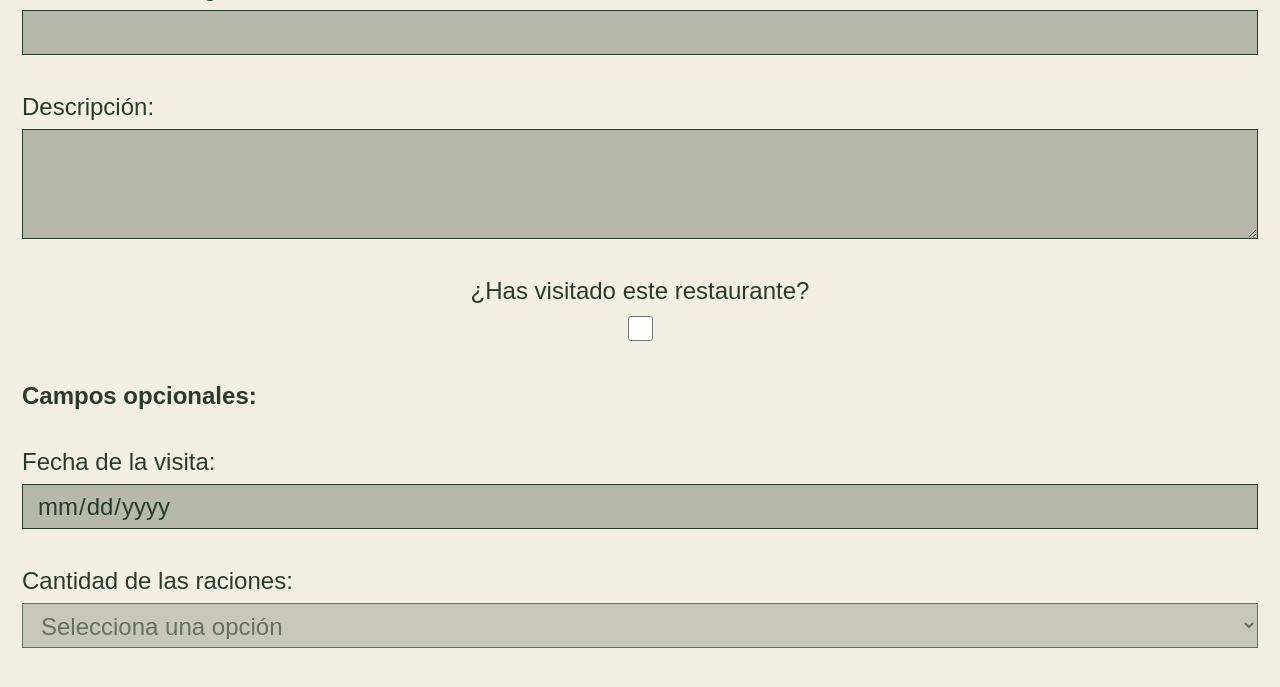
it: Given the RestaurantForm component › When it receives an action to add a new restaurant › And the user selects the checkbox › And the user types 6 as the rating in the rating input › Then it should show 5 as the restaurant rating
This screenshot has width=1280, height=687.
(page scrolled)
Click the checkbox labelled "¿Has visitado este restaurante?".
click(640, 328)  # box top-left (628, 316), bottom-right (653, 341)
(page scrolled)
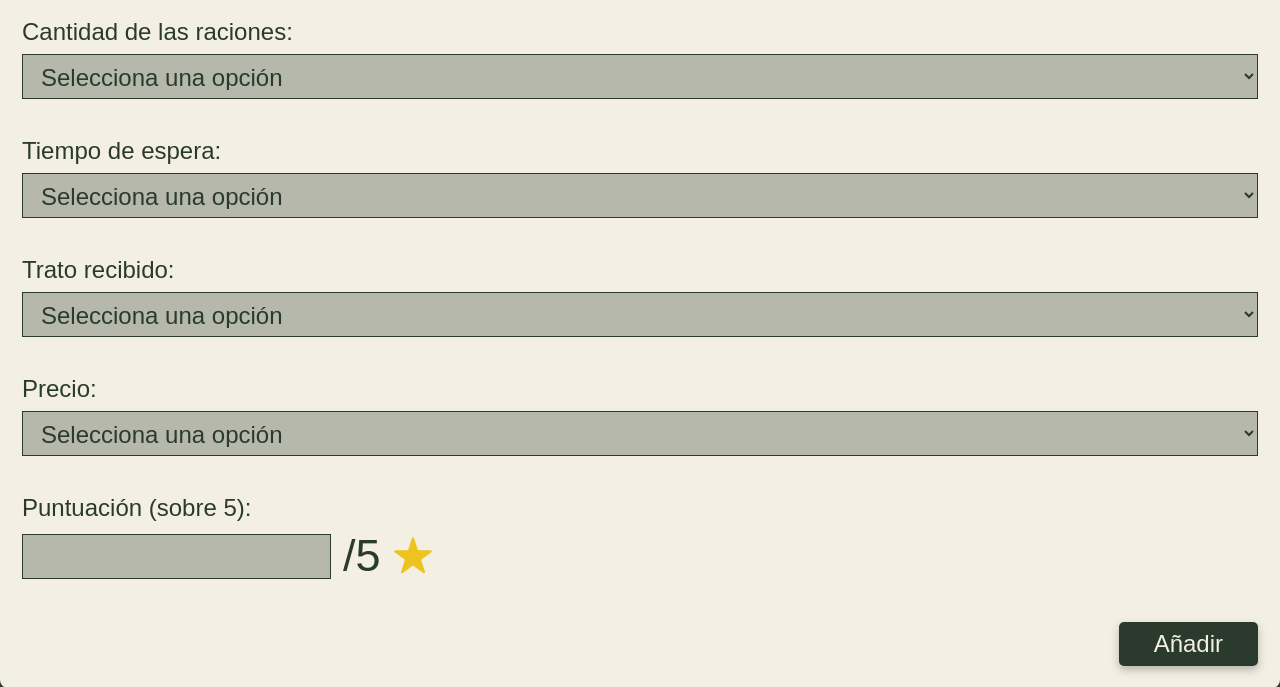
Type "6" into the number field labelled "Puntuación (sobre 5):".
click(176, 556); type("6")  # box top-left (22, 534), bottom-right (331, 578)
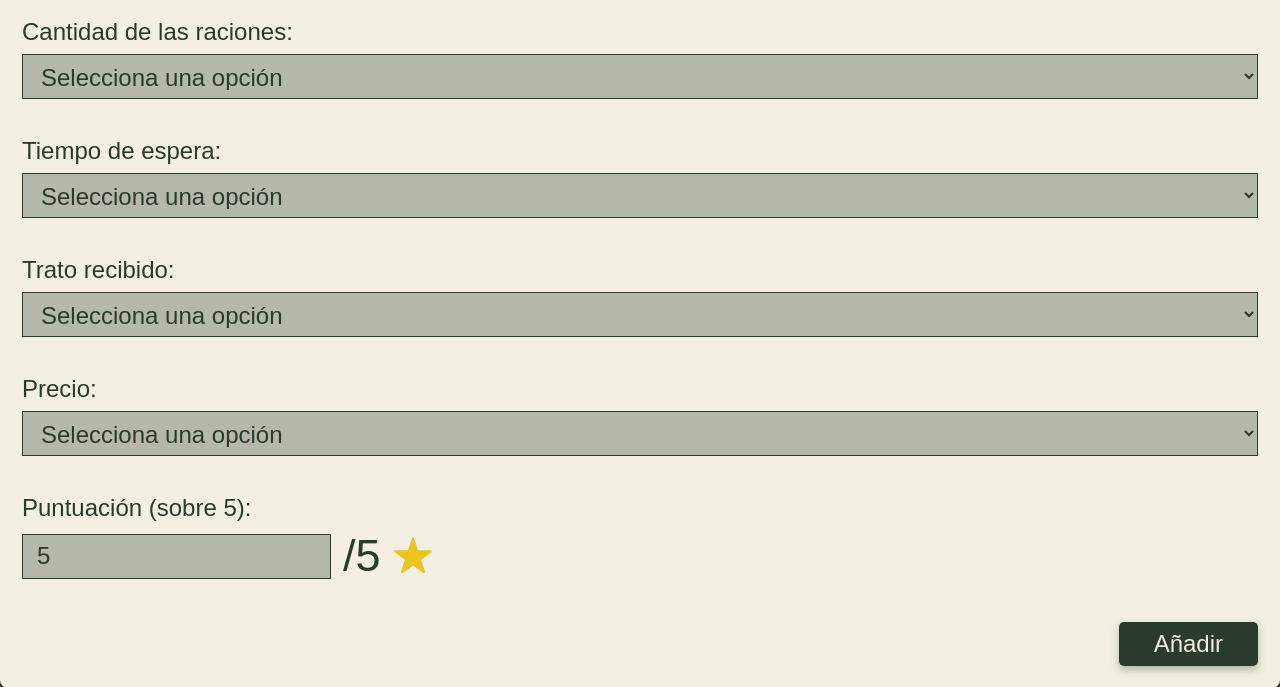
Now the number field labelled "Puntuación (sobre 5):" holds "5", box top-left (22, 534), bottom-right (331, 578)
